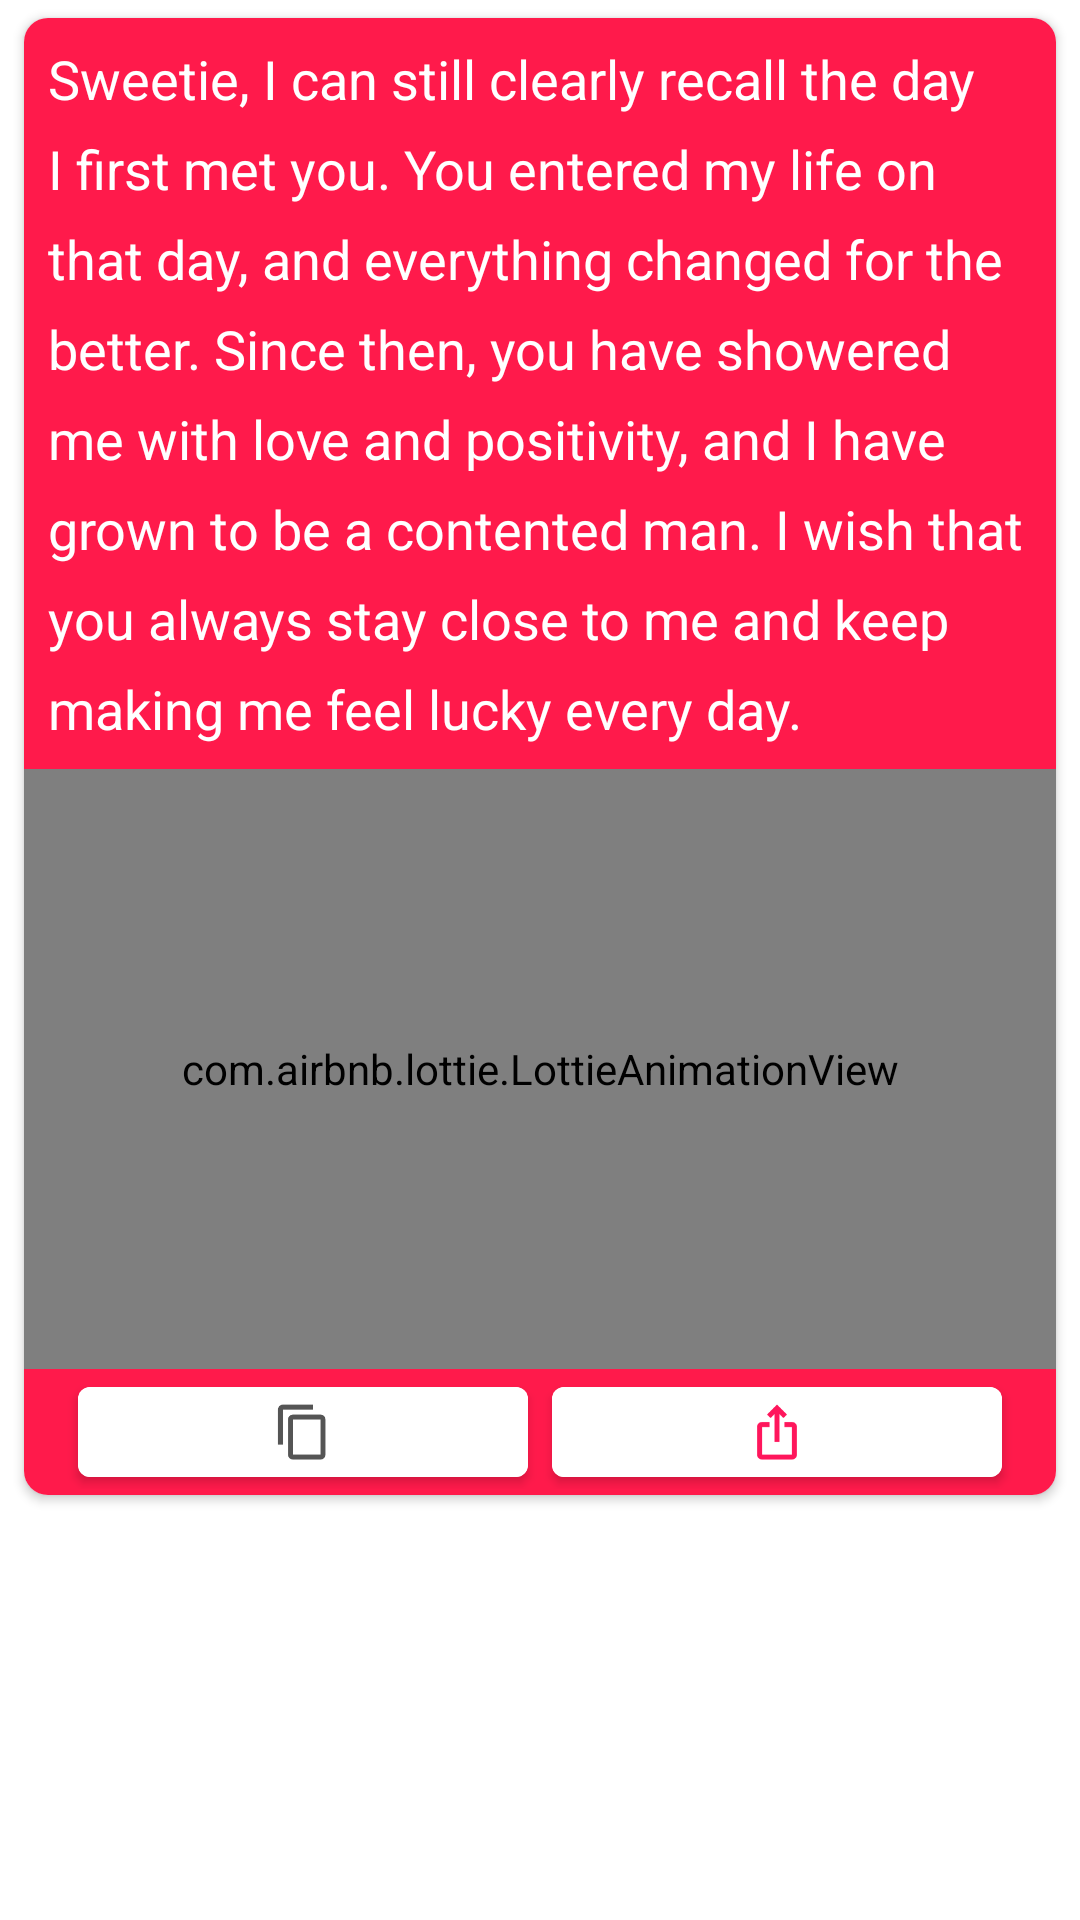

Locate icon controls on the screen. Image size 1080px x 1920px, boxes as (x1, y1, x2, y2).
share: (757, 1405, 797, 1460)
